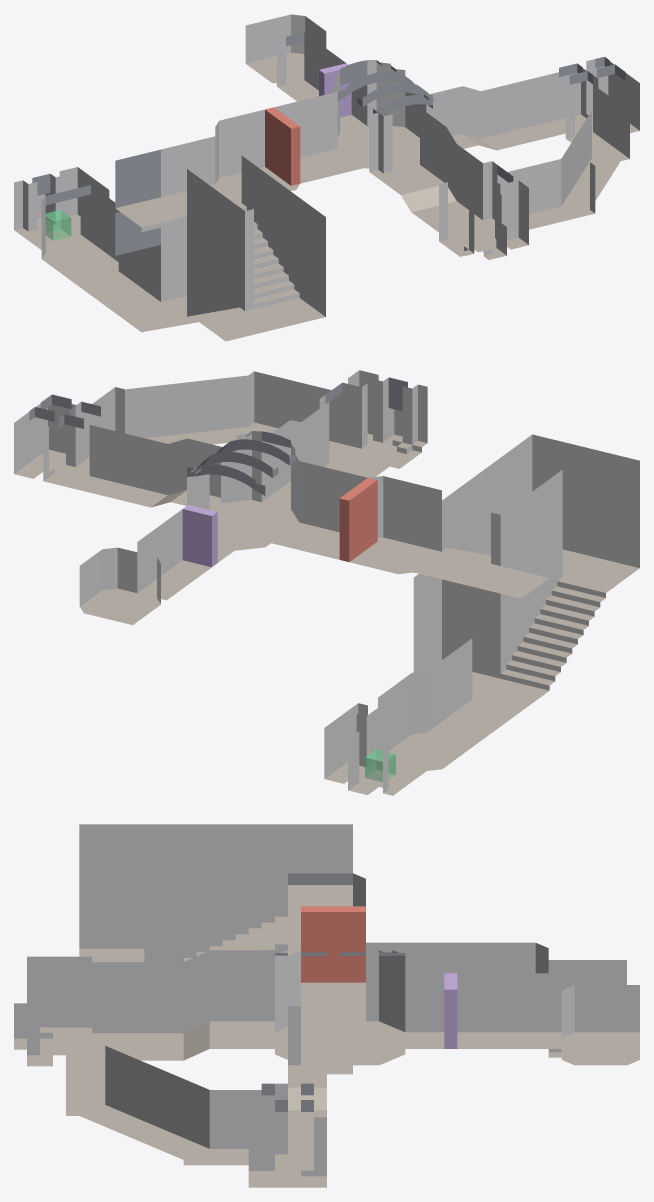
The model's file is outpost_02.glb.
3 renders of one model, top to bottom at view 1: azimuth 30°, elevation 25°; view 2: azimuth 150°, elevation 25°; view 3: azimuth 270°, elevation 25°, orthographic. The views are drawn at different scales.
Visible parts, largest first — view 1: room:5, corridor:0, corridor:4, corridor:5, corridor:1, corridor:2, room:1, room:3, entities, room:4, room:2, corridor:3 (+7 smaller); view 2: room:5, corridor:5, corridor:1, corridor:4, room:1, corridor:2, entities, room:3, room:4, corridor:3, corridor:0, room:0 (+7 smaller); view 3: room:5, corridor:0, corridor:5, corridor:3, room:1, room:0, room:4, entities, corridor:4, corridor:1, corridor:2, room:3 (+6 smaller).
Part boxes in pixels (x1,y1,x2,y2): room:5: (115, 136, 325, 341); corridor:0: (369, 108, 482, 231); corridor:4: (41, 185, 160, 312); corridor:5: (497, 92, 629, 229); corridor:1: (215, 92, 363, 202); corridor:2: (426, 75, 559, 150); room:1: (332, 60, 432, 171); room:3: (544, 56, 639, 142); entities: (45, 63, 351, 240); room:4: (245, 14, 326, 84); room:2: (14, 167, 109, 252); corridor:3: (277, 32, 367, 132); room:5: (413, 434, 639, 711); corridor:5: (87, 371, 342, 459); corridor:1: (271, 461, 441, 574); corridor:4: (378, 638, 520, 770); room:1: (187, 431, 299, 550); corridor:2: (83, 427, 222, 510); entities: (182, 478, 395, 782); room:3: (14, 394, 100, 490); room:4: (79, 547, 160, 625); corridor:3: (137, 492, 234, 600); corridor:0: (261, 402, 377, 509); room:0: (319, 370, 421, 474); room:5: (79, 824, 352, 1074); corridor:0: (118, 950, 286, 1060); corridor:5: (66, 1046, 248, 1165); corridor:3: (405, 973, 561, 1048); room:1: (275, 950, 405, 1065); room:0: (27, 956, 118, 1066); room:4: (561, 985, 639, 1065); entities: (301, 906, 457, 1048); corridor:4: (366, 942, 548, 973); corridor:1: (288, 873, 365, 1021); corridor:2: (288, 1006, 326, 1148); room:3: (248, 1083, 326, 1187).
Bounding box in the file's own units: 53 × 18 × 48.
